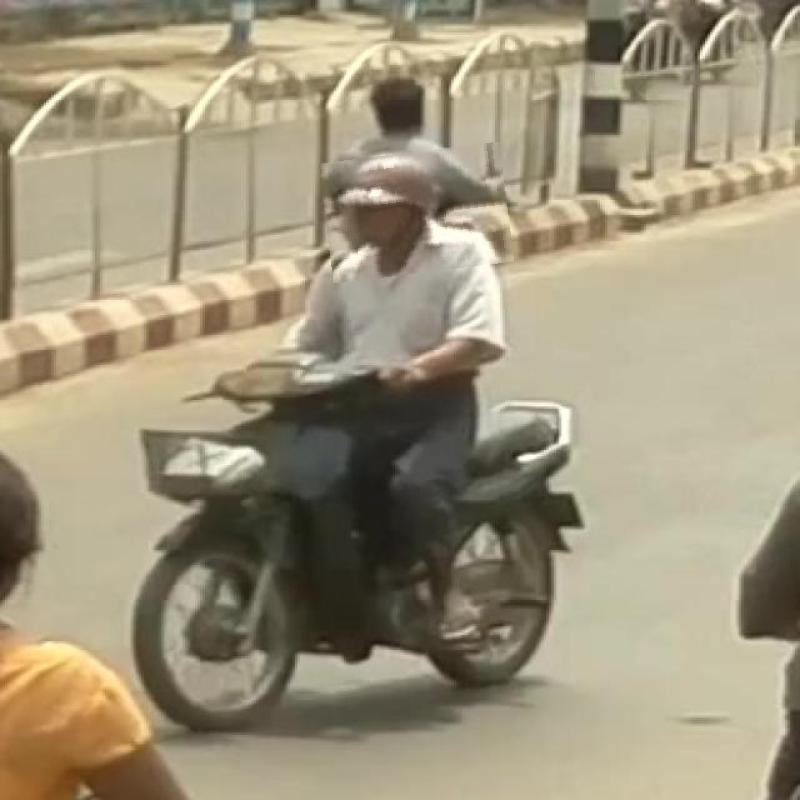nohelmet: (323, 146, 511, 278)
